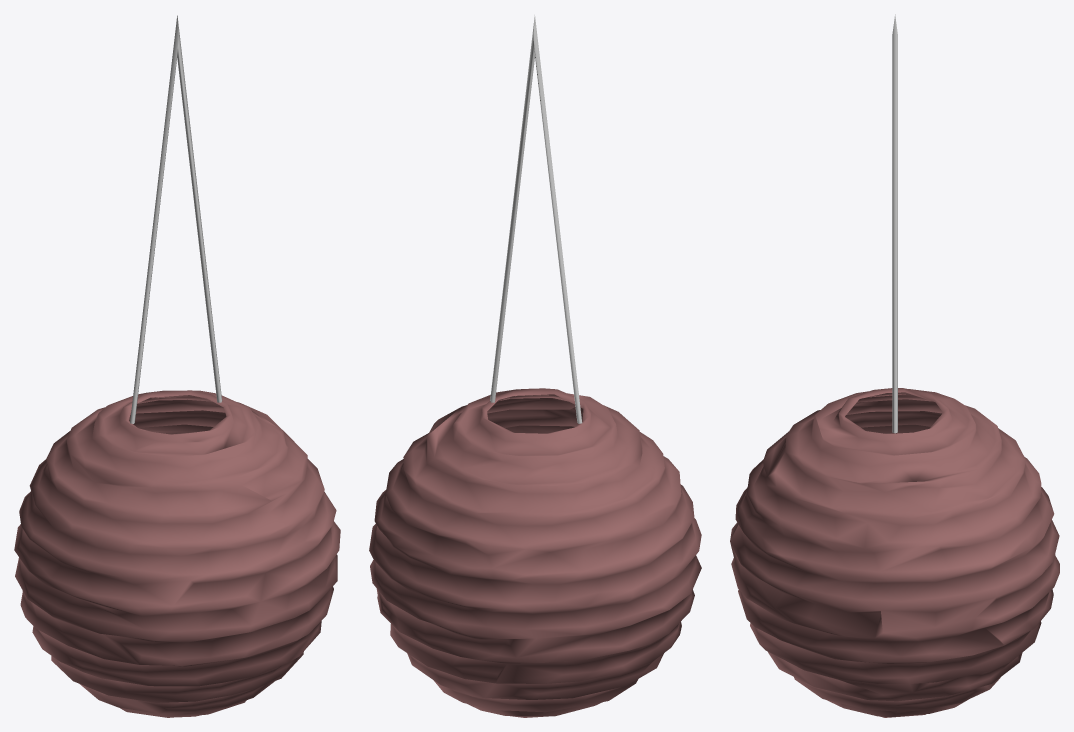
File: lantern.FBX
3 renders of one model, left to right at view 1: azimuth 30°, elevation 25°; view 2: azimuth 150°, elevation 25°; view 3: azimuth 270°, elevation 25°, orthographic.
Parts seen in each view (by area): view 1: Sphere001, Line001; view 2: Sphere001, Line001; view 3: Sphere001, Line001.
Boxes of the visible parts, bbox=[...] form: Sphere001: bbox=[14, 390, 340, 717]; Line001: bbox=[130, 15, 222, 423]; Sphere001: bbox=[369, 388, 701, 717]; Line001: bbox=[490, 15, 582, 423]; Sphere001: bbox=[730, 388, 1059, 717]; Line001: bbox=[892, 14, 897, 433].
Bounding box in the file's own units: 40.31 × 92.19 × 40.46.
